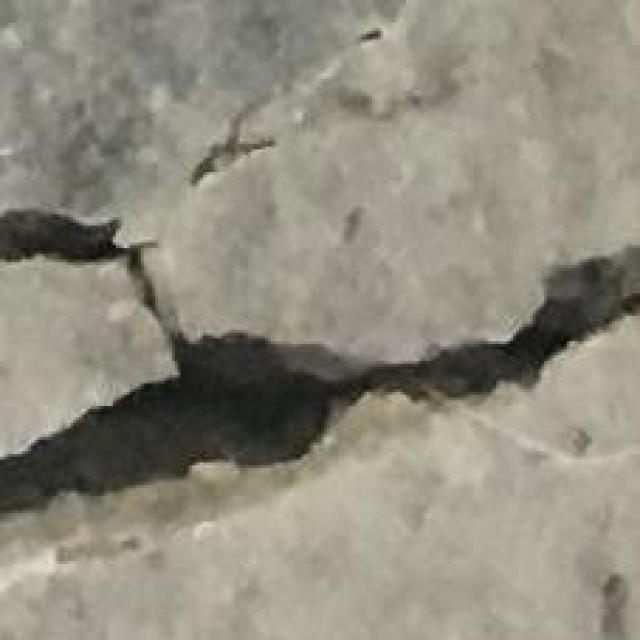branched cracks: (0, 95, 639, 512)
